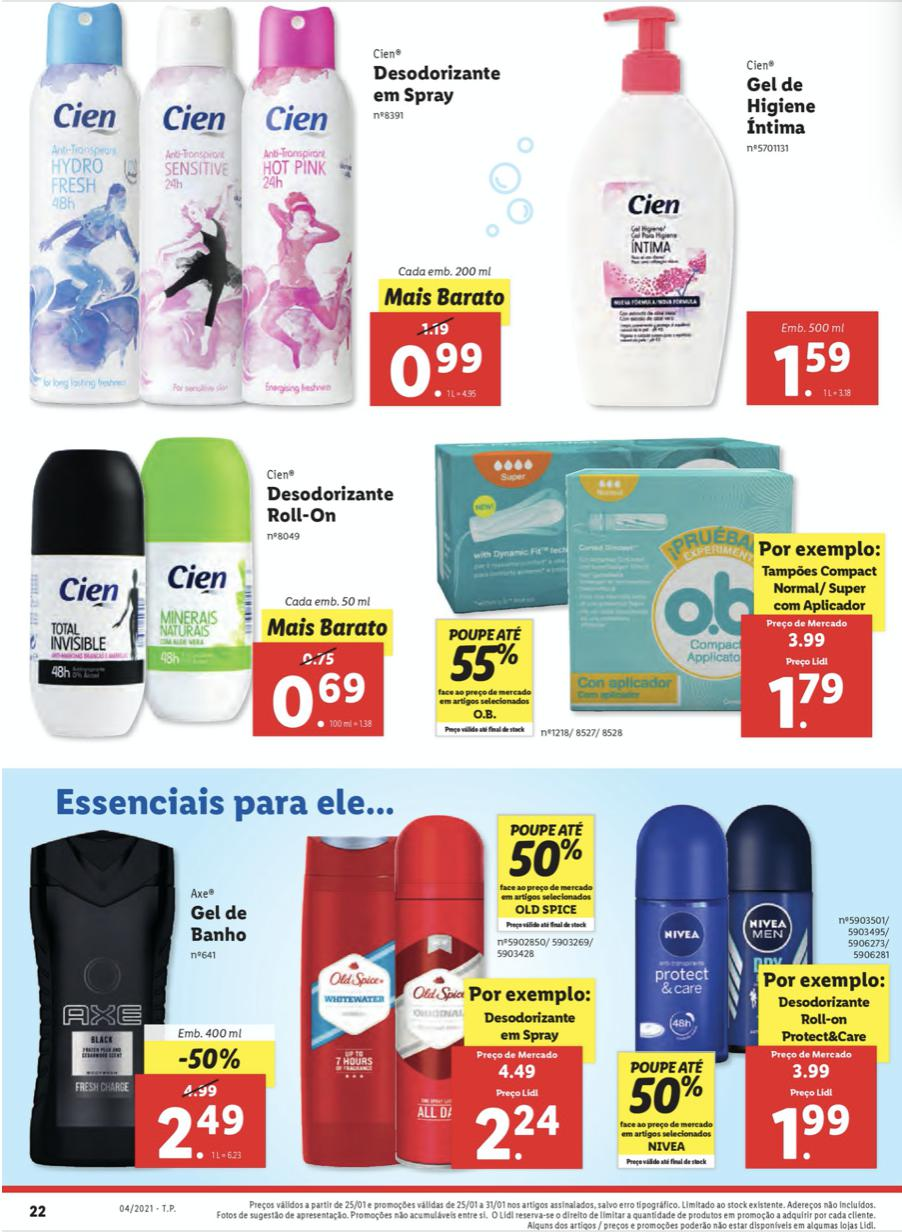name: (368, 60, 505, 112), (265, 483, 395, 526), (739, 74, 820, 140), (182, 904, 252, 946)
price: (388, 332, 486, 400), (149, 1098, 246, 1166), (466, 1098, 568, 1161), (269, 669, 372, 731), (763, 1097, 857, 1160), (765, 666, 849, 731), (774, 335, 859, 398)
product: (17, 1, 517, 418), (412, 434, 891, 754), (549, 7, 885, 417), (285, 806, 608, 1181), (19, 435, 403, 746), (608, 806, 897, 1191), (11, 818, 285, 1181)
promotion: (623, 1077, 708, 1123), (506, 835, 582, 883), (448, 638, 520, 687), (172, 1043, 249, 1074)
